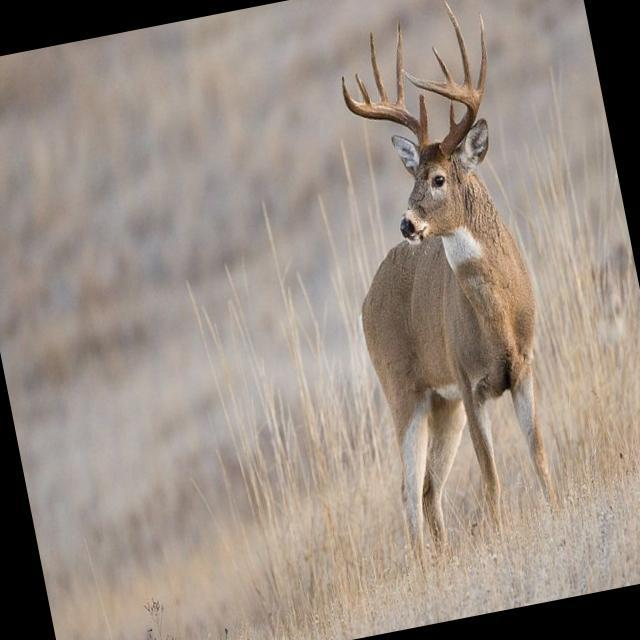L-F: (405, 71, 481, 156)
L-G1: (449, 100, 457, 132)
L-G2: (477, 11, 488, 101)
L-G3: (444, 0, 474, 88)
R-F: (341, 76, 430, 148)
R-G1: (419, 94, 428, 131)
R-G2: (396, 19, 407, 108)
R-G3: (370, 31, 390, 103)
R-G4: (355, 73, 370, 105)
